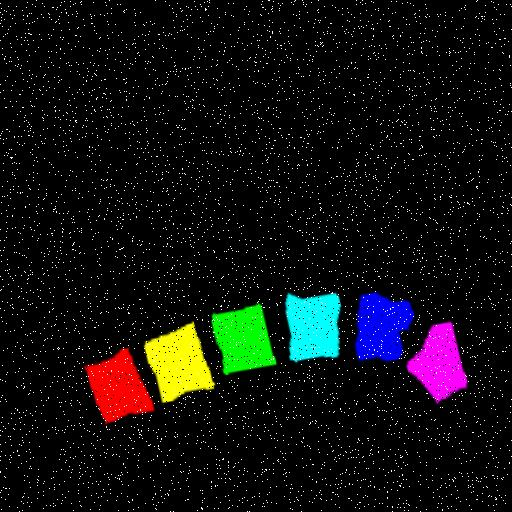L1: (87, 344, 156, 419)
L2: (147, 317, 216, 398)
L3: (215, 298, 277, 368)
L4: (290, 285, 343, 352)
L5: (359, 283, 415, 353)
S1: (410, 312, 469, 390)
